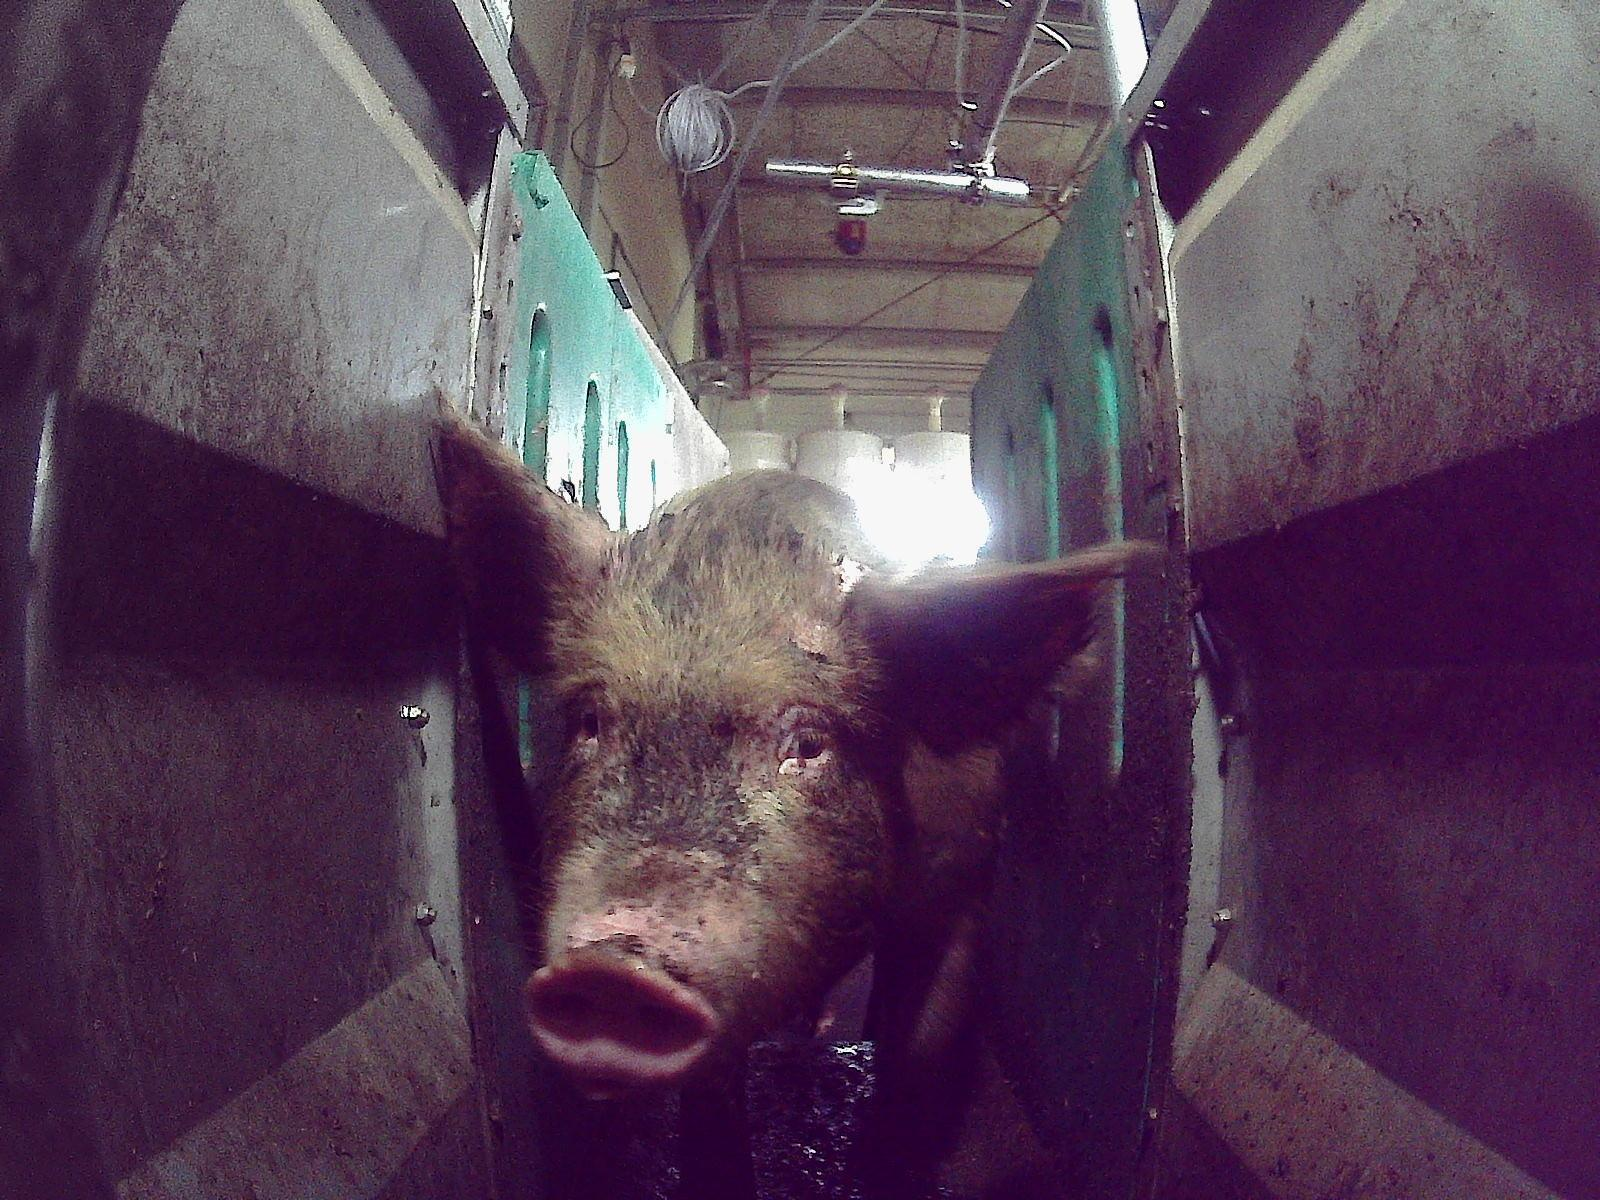Face: (516, 508, 895, 1099)
